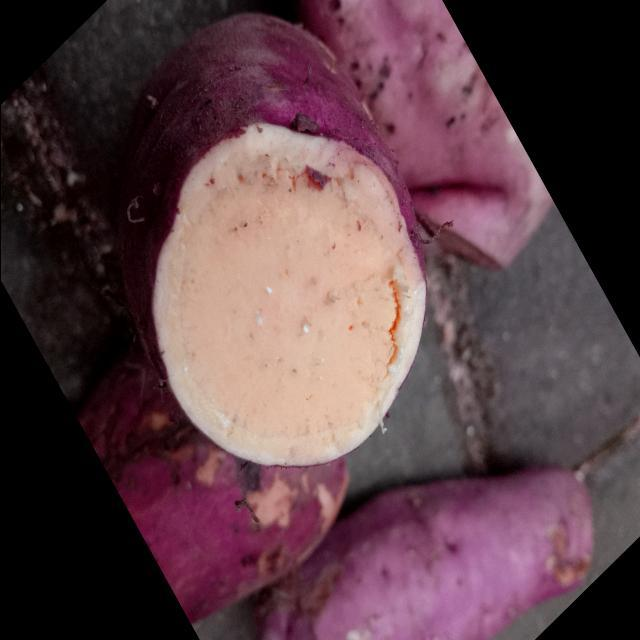Healthy Sweet Potato: (152, 125, 424, 465)
